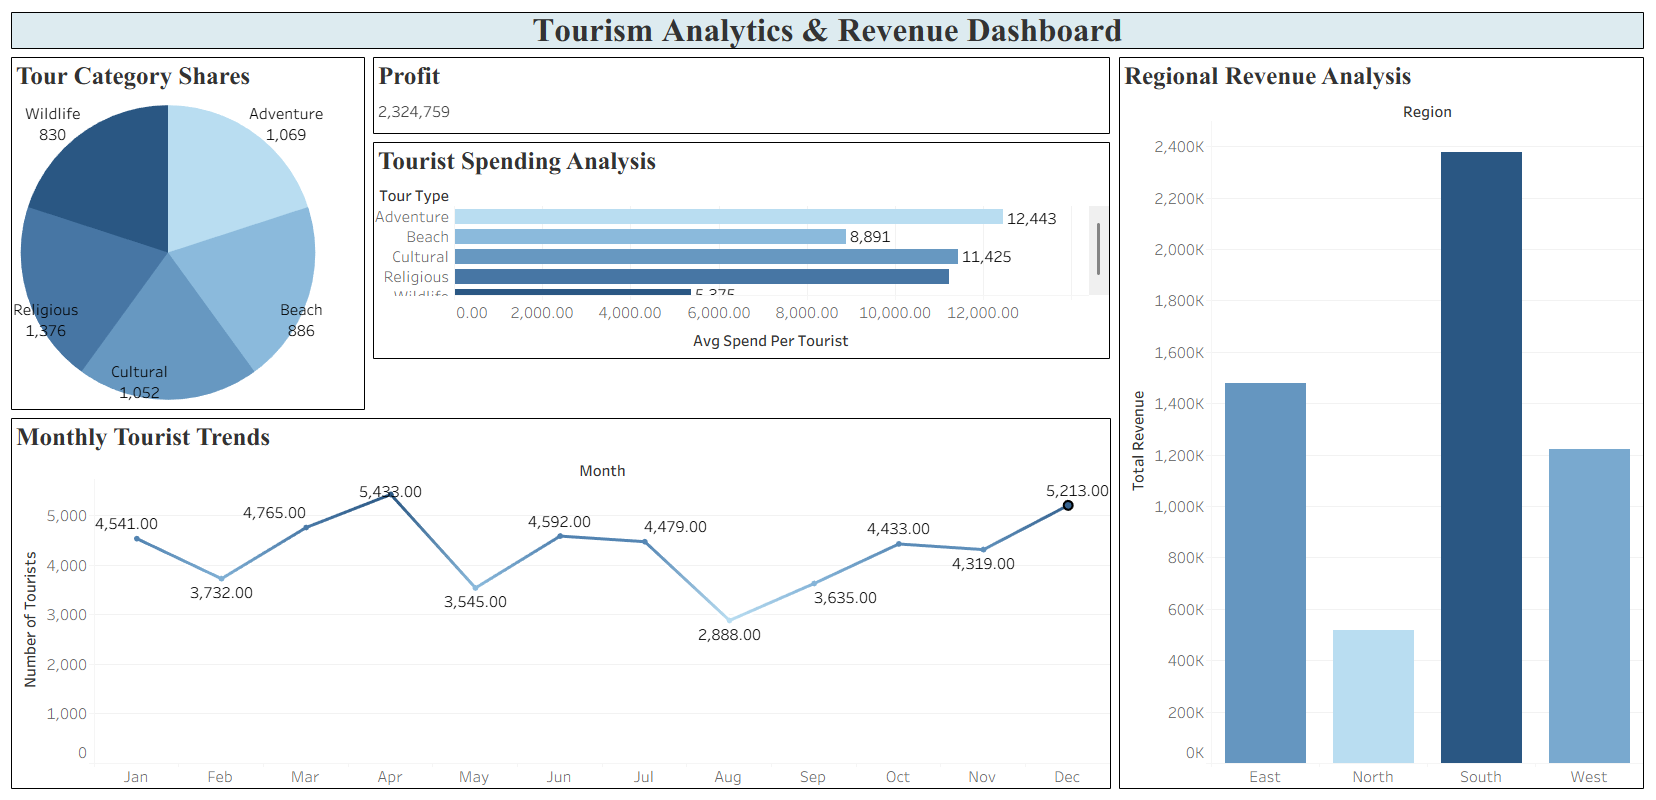

What the dashboard file says about the page in this screenshot:
{"tool":"tableau","page":{"name":"Dashboard 1","canvas":[1000,1000],"units":"permille","ordinal":0},"visuals":[{"type":"title","box":[4.8,10,990.3,56.2]},{"type":"worksheet","title":"Categories in Tours","mark":"Pie","box":[4.8,66.2,218.5,450.7]},{"type":"worksheet","title":"Profit","mark":"Automatic","box":[223.3,66.2,449.6,106.1]},{"type":"worksheet","title":"Revenue by Region","mark":"Automatic","rows":["Total_Revenue"],"cols":["Region"],"box":[673.5,66.2,321.7,923.8]},{"type":"worksheet","title":"spend per tourist","mark":"Automatic","rows":["Tour_Type"],"cols":["Avg_Spend_Per_Tourist"],"box":[223.3,172.3,449.6,280.9]},{"type":"worksheet","title":"Trend line of tourist","mark":"Line","rows":["Number_of_Tourists"],"cols":["Month"],"box":[4.8,516.9,668.7,473.2]}]}

Visuals, with their boxes on the dashboard's canvas, which has no fixed pixel size, in thousandths of its width and height (x1, y1, x2, y2). These are canvas units, not pixel positions in the 1656x800 screenshot, which may show the page scaled, cropped or inside an application window:
title: box=[5, 10, 995, 66]
"Categories in Tours" worksheet (Pie marks): box=[5, 66, 223, 517]
"Profit" worksheet: box=[223, 66, 673, 172]
"Revenue by Region" worksheet: box=[674, 66, 995, 990]
"spend per tourist" worksheet: box=[223, 172, 673, 453]
"Trend line of tourist" worksheet (Line marks): box=[5, 517, 674, 990]
